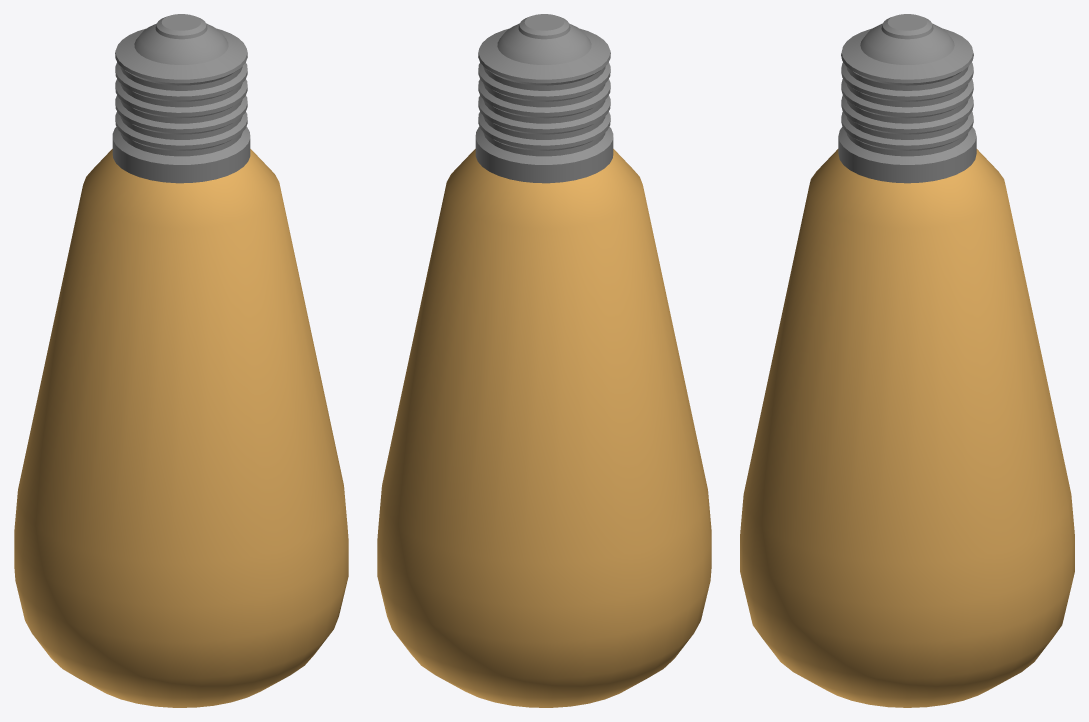
Rendered from LightBulb.gltf.
3 renders of one model, left to right at view 1: azimuth 30°, elevation 25°; view 2: azimuth 150°, elevation 25°; view 3: azimuth 270°, elevation 25°, orthographic.
Visible parts, largest first — view 1: LightBulb; view 2: LightBulb; view 3: LightBulb.
Part boxes in pixels (bbox=[...]): LightBulb: bbox=[14, 14, 348, 707]; LightBulb: bbox=[377, 14, 711, 707]; LightBulb: bbox=[740, 14, 1074, 707].
Size of the model in its own units: 0.4224 by 0.9399 by 0.4224.
